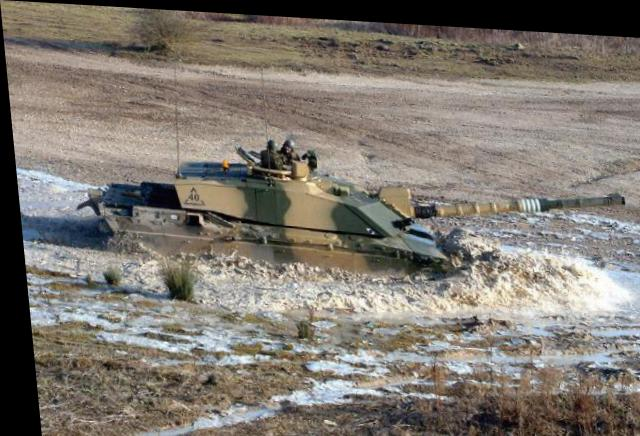other: (238, 113, 280, 173), (269, 120, 305, 168)
tank: (82, 145, 443, 284)
